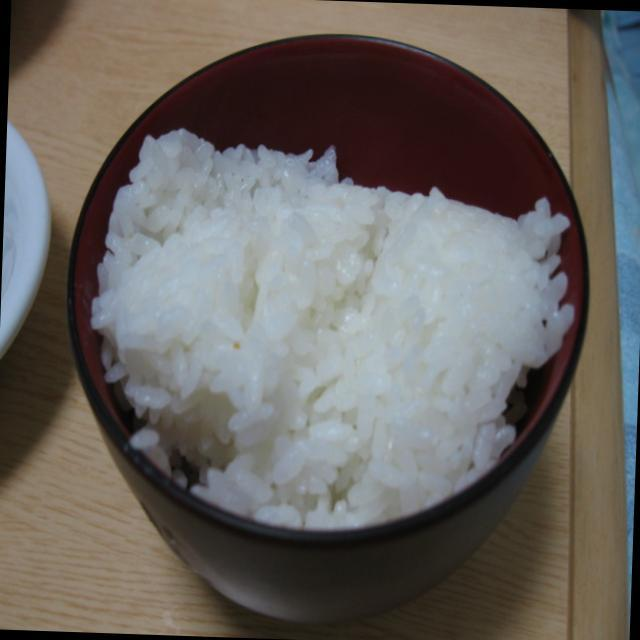Rice: (89, 119, 581, 545)
